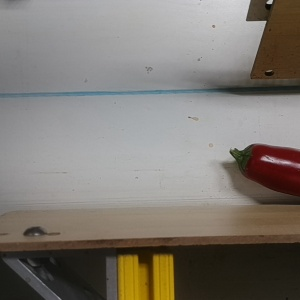Cut Point: (232, 141, 262, 181)
